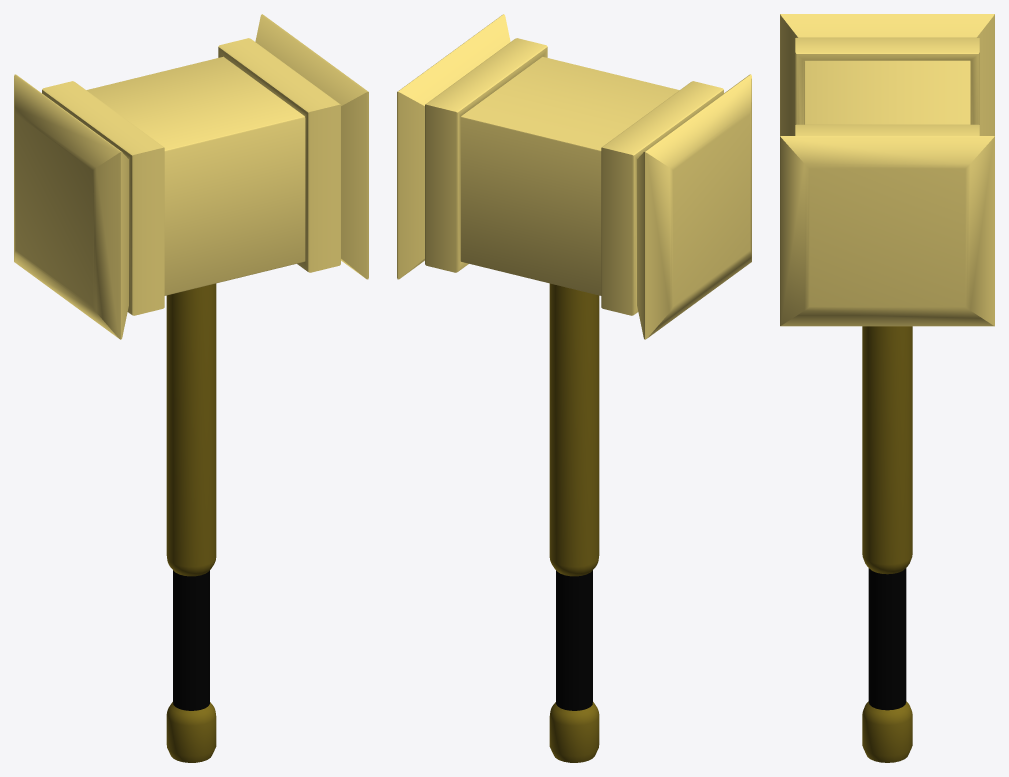
Rendered from OneHand_Hammer_Gold.fbx.
The picture shows the model from 3 angles, left to right: view 1: azimuth 30°, elevation 25°; view 2: azimuth 150°, elevation 25°; view 3: azimuth 270°, elevation 25°; orthographic projection.
Parts seen in each view (by area): view 1: OneHand_Hammer_Gold; view 2: OneHand_Hammer_Gold; view 3: OneHand_Hammer_Gold.
Boxes of the visible parts, x1=… form: OneHand_Hammer_Gold: x1=14, y1=14, x2=368, y2=762; OneHand_Hammer_Gold: x1=397, y1=14, x2=751, y2=762; OneHand_Hammer_Gold: x1=780, y1=14, x2=994, y2=762.
Bounding box in the file's own units: 282 × 663 × 189.
